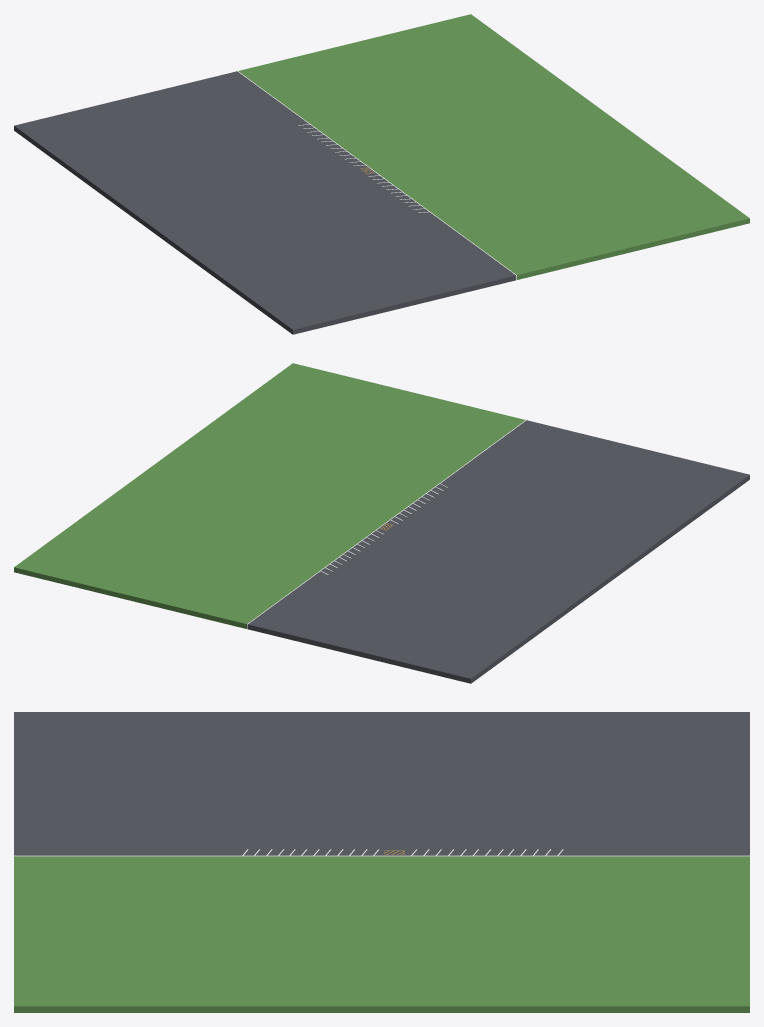
Rendered from Earth.fbx.
The picture shows the model from 3 angles, top to bottom: view 1: azimuth 30°, elevation 25°; view 2: azimuth 150°, elevation 25°; view 3: azimuth 270°, elevation 25°; orthographic projection. The views are drawn at different scales.
Visible parts, largest first — view 1: Earth; view 2: Earth; view 3: Earth.
Boxes of the visible parts, box(x1,y1,x2,y2) form: Earth: box(14, 14, 749, 334); Earth: box(14, 363, 749, 683); Earth: box(14, 712, 749, 1012).
Size of the model in its own units: 206 by 2.15 by 217.
1 material, 1 textured.
